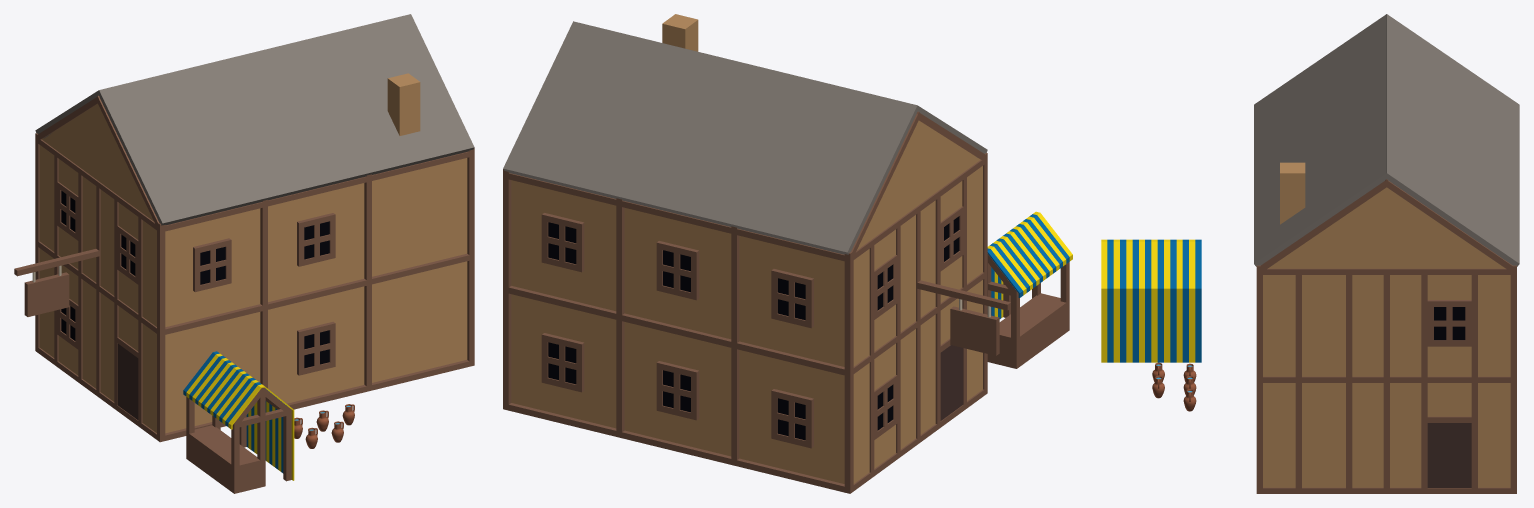
Rendered from timberframedpotter_yellow_blue.obj.
3 renders of one model, left to right at view 1: azimuth 30°, elevation 25°; view 2: azimuth 150°, elevation 25°; view 3: azimuth 270°, elevation 25°, orthographic. The views are drawn at different scales.
Parts seen in each view (by area): view 1: Cube.005, Cube.007_Cube.011, Cube.011_Cube.015, Cube.018_Cube.016, Cube.026_Cube.019, Cube.006_Cube.010, Cube.001_Cube.058, Cube.056_Cube.081, Cube.013_Cube.080, Cube.055_Cube.059, Cube.147_Cube.153, Cube.010_Cube.053 (+24 smaller); view 2: Cube.005, Cube.007_Cube.011, Cube.023_Cube.026, Cube.022_Cube.025, Cube.021_Cube.024, Cube.028, Cube.019_Cube.022, Cube.017_Cube.021, Cube.014_Cube.018, Cube.008, Cube.015_Cube.020, Cube.020_Cube.023 (+23 smaller); view 3: Cube.005, Cube.007_Cube.011, Cube.147_Cube.153, Cube.003, Cube.033, Cube.016_Cube.013, Cube.031, Cube.032, Cube.012_Cube.017, Cube.027, Cube.046_Cube.048, Cube.034 (+6 smaller).
Part boxes in pixels (box(x1,y1,x2,y2)): Cube.005: box(39, 104, 467, 433); Cube.007_Cube.011: box(35, 14, 474, 225); Cube.011_Cube.015: box(161, 253, 473, 335); Cube.018_Cube.016: box(161, 151, 473, 231); Cube.026_Cube.019: box(157, 223, 165, 442); Cube.006_Cube.010: box(387, 73, 420, 135); Cube.001_Cube.058: box(297, 321, 335, 375); Cube.056_Cube.081: box(193, 238, 231, 292); Cube.013_Cube.080: box(297, 213, 335, 266); Cube.055_Cube.059: box(161, 360, 473, 441); Cube.147_Cube.153: box(246, 401, 294, 480); Cube.010_Cube.053: box(364, 174, 371, 391); Cube.005: box(511, 120, 982, 483); Cube.007_Cube.011: box(503, 21, 987, 254); Cube.023_Cube.026: box(508, 403, 848, 492); Cube.022_Cube.025: box(508, 286, 848, 375); Cube.021_Cube.024: box(504, 172, 844, 261); Cube.028: box(844, 251, 853, 493); Cube.019_Cube.022: box(656, 361, 699, 420); Cube.017_Cube.021: box(541, 333, 584, 392); Cube.014_Cube.018: box(656, 241, 699, 300); Cube.008: box(541, 213, 584, 272); Cube.015_Cube.020: box(771, 269, 813, 328); Cube.020_Cube.023: box(771, 389, 813, 448); Cube.005: box(1263, 187, 1510, 487); Cube.007_Cube.011: box(1254, 14, 1519, 266); Cube.147_Cube.153: box(1101, 288, 1201, 362); Cube.003: box(1427, 423, 1471, 487); Cube.033: box(1427, 300, 1471, 346); Cube.016_Cube.013: box(1261, 376, 1511, 382); Cube.031: box(1261, 487, 1512, 493); Cube.032: box(1261, 268, 1512, 274); Cube.012_Cube.017: box(1256, 265, 1262, 493); Cube.027: box(1510, 265, 1516, 493); Cube.046_Cube.048: box(1346, 268, 1352, 490); Cube.034: box(1383, 268, 1389, 490).
Bounding box in the file's own units: 15.3 × 11.25 × 13.34.
